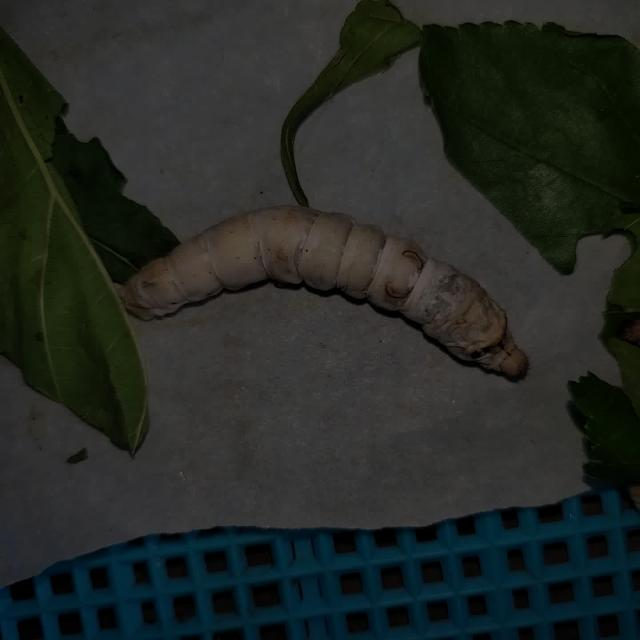Grasserie: (119, 152, 547, 409)
